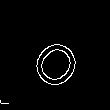O_NE: (23, 21, 87, 89)
